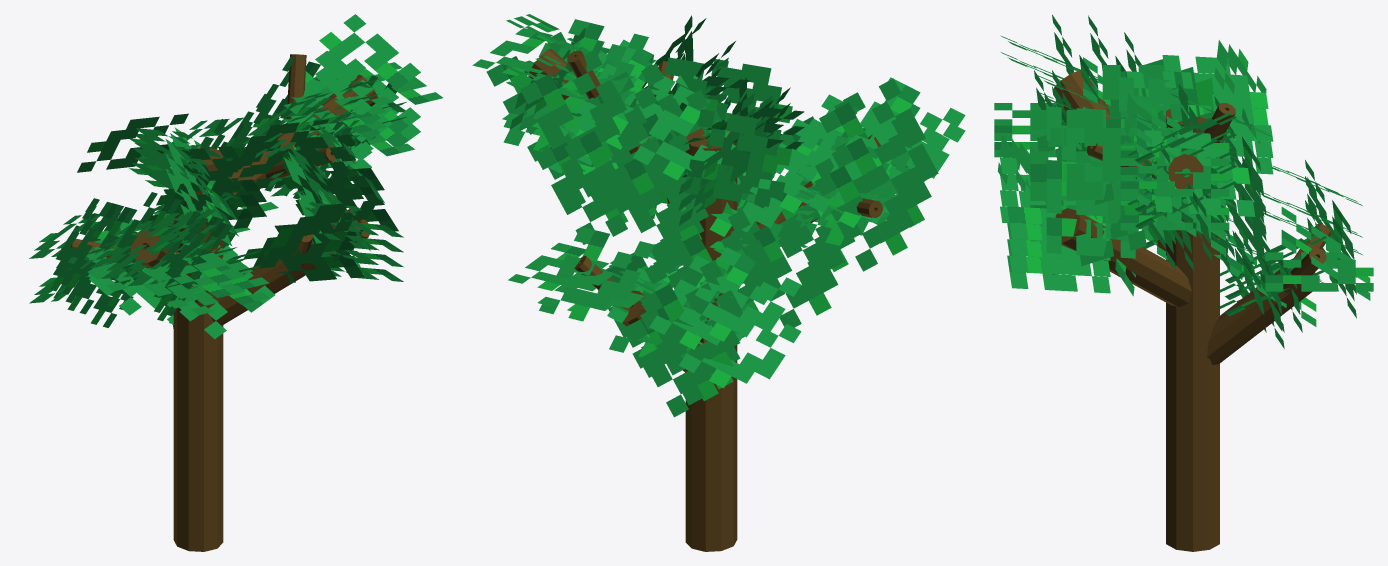
Rendered from Tree.gltf.
The picture shows the model from 3 angles, left to right: view 1: azimuth 30°, elevation 25°; view 2: azimuth 150°, elevation 25°; view 3: azimuth 270°, elevation 25°; orthographic projection. The views are drawn at different scales.
Parts seen in each view (by area): view 1: tube; view 2: tube; view 3: tube.
Boxes of the visible parts, x1=… form: tube: x1=29, y1=14, x2=442, y2=551; tube: x1=472, y1=14, x2=965, y2=551; tube: x1=994, y1=14, x2=1373, y2=551.
Size of the model in its own units: 1.77 by 1.98 by 1.31.
3 materials, 3 textured.
